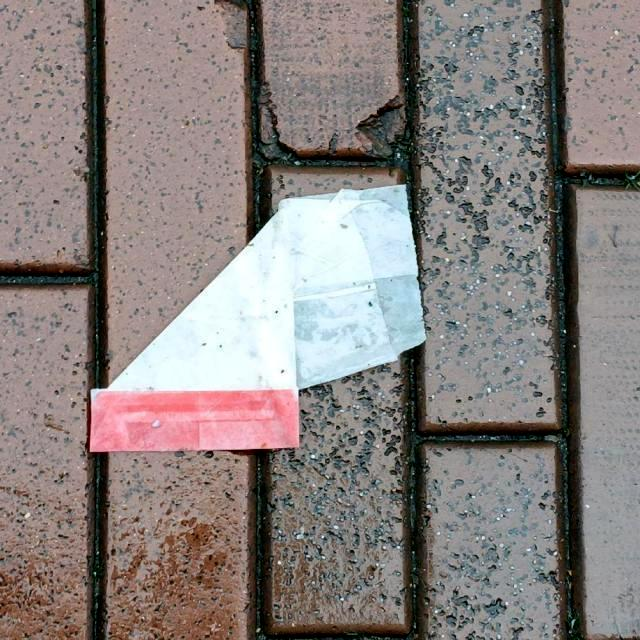Paper: (86, 181, 428, 455)
